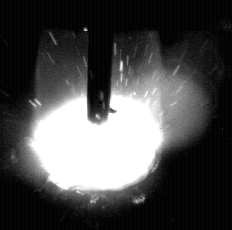arame: (88, 0, 111, 124)
poca: (30, 0, 163, 230)
